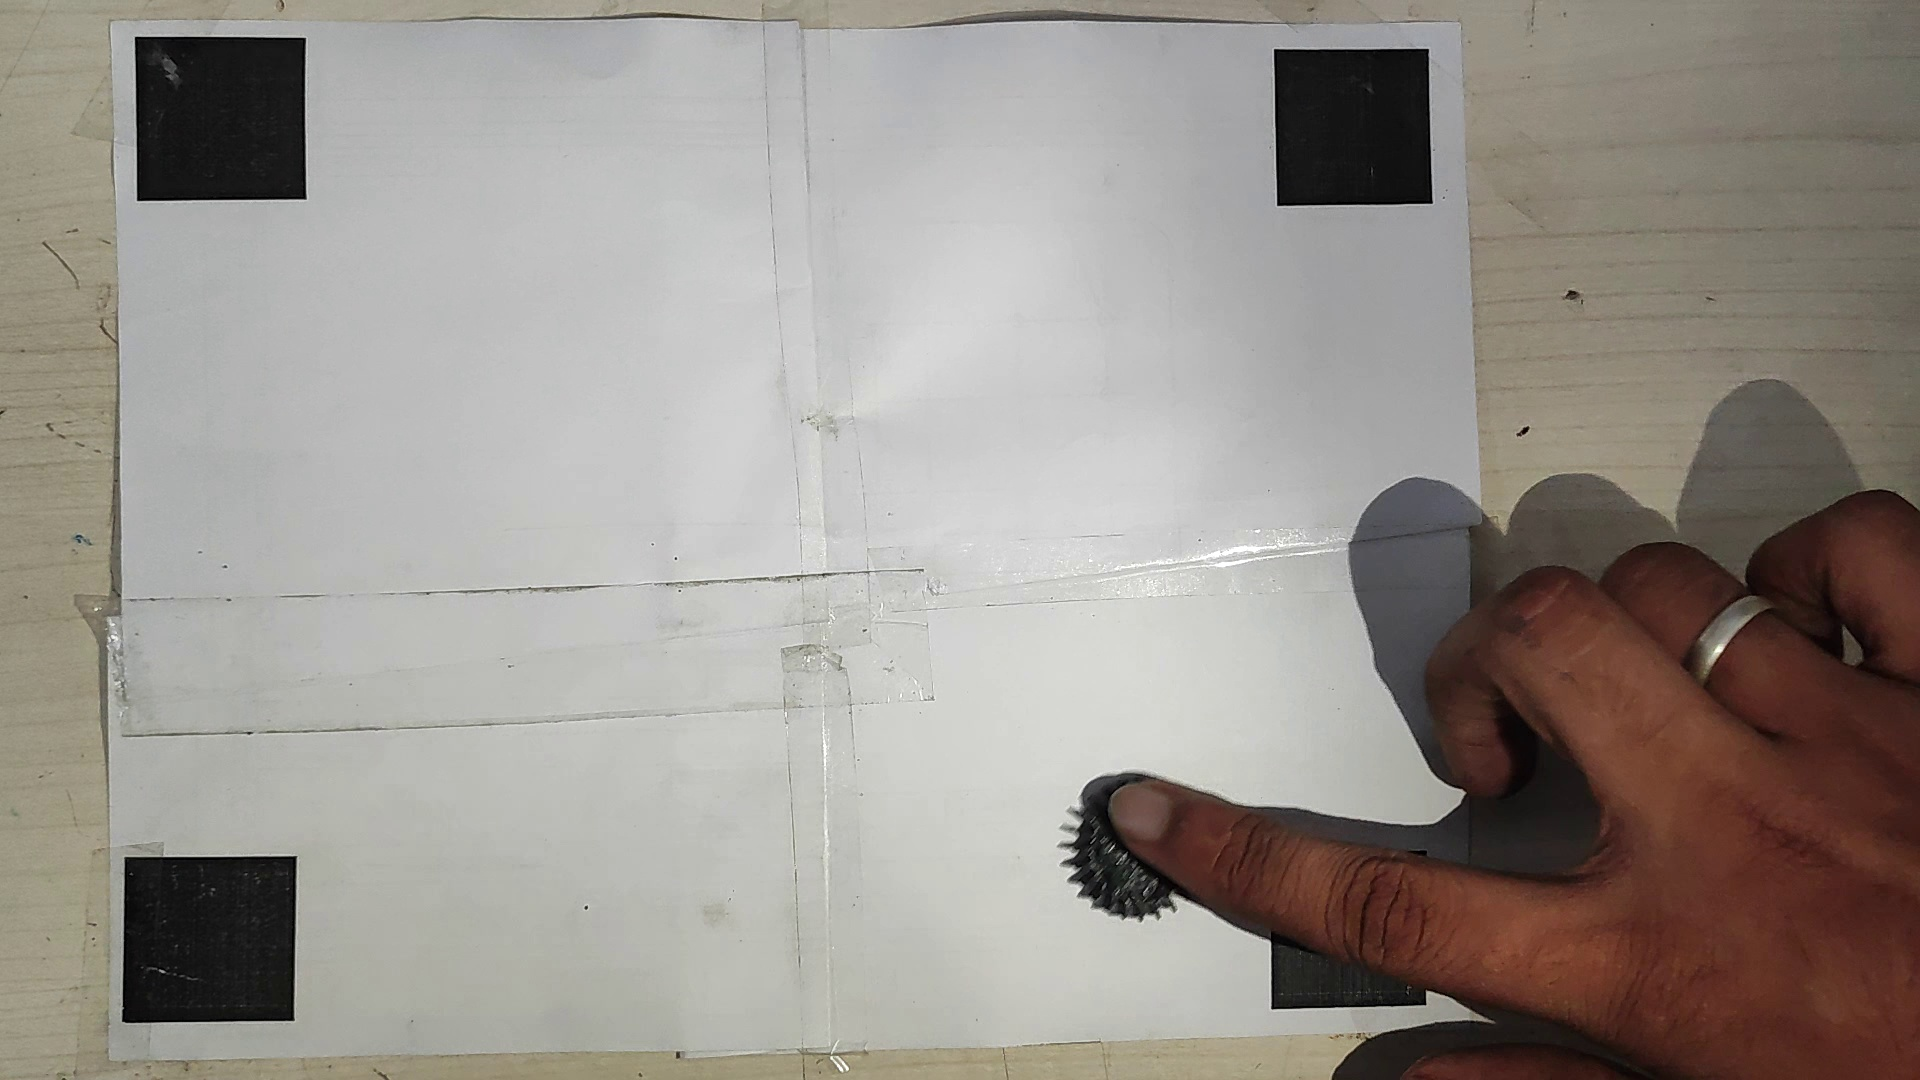Gear: (1060, 780, 1189, 925)
